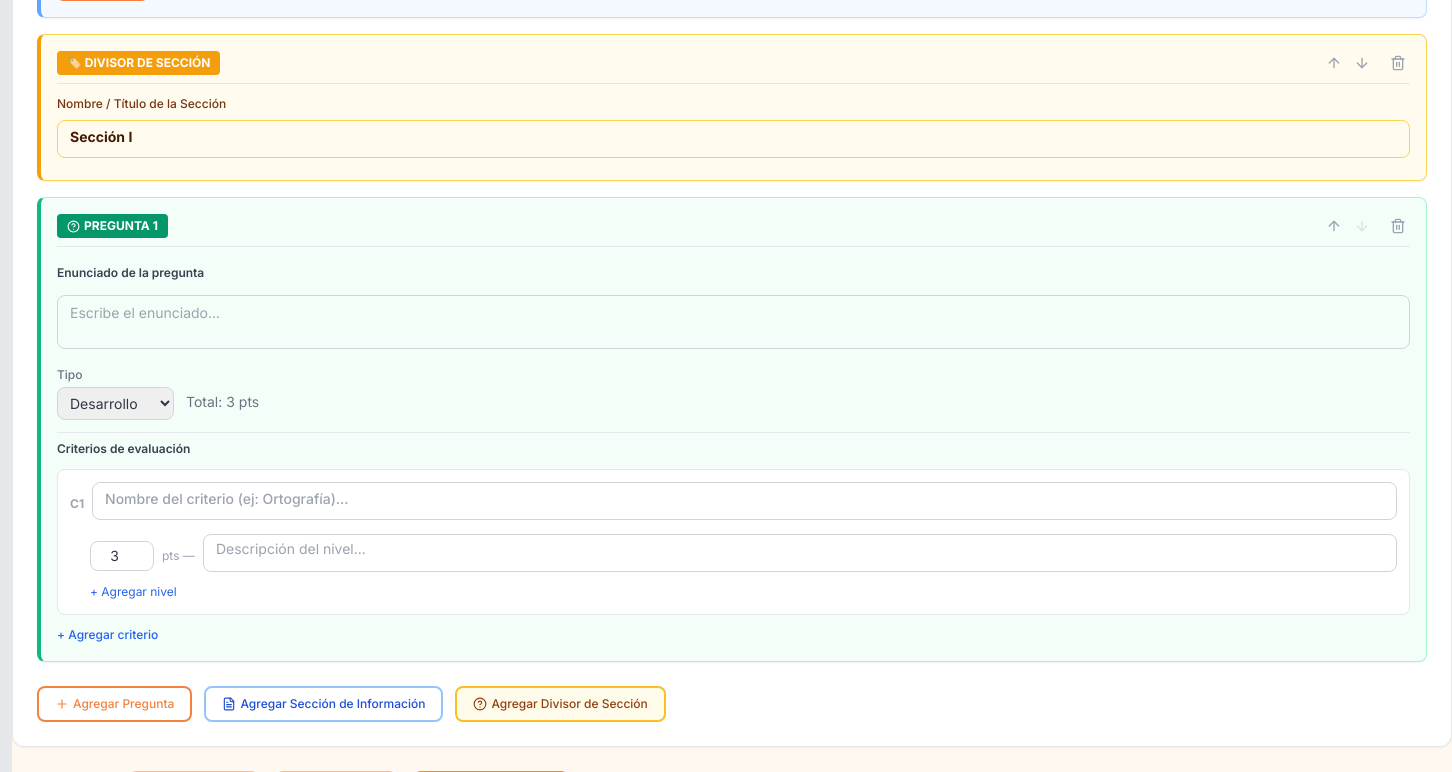
Test case: NuevaEvaluacionPage (Tiza) › cambia el tipo de pregunta a multiple_choice
(page scrolled)
Select "Alternativas" in the dropdown named "Tipo de pregunta 1" at (116, 404), box [57,387,174,420]
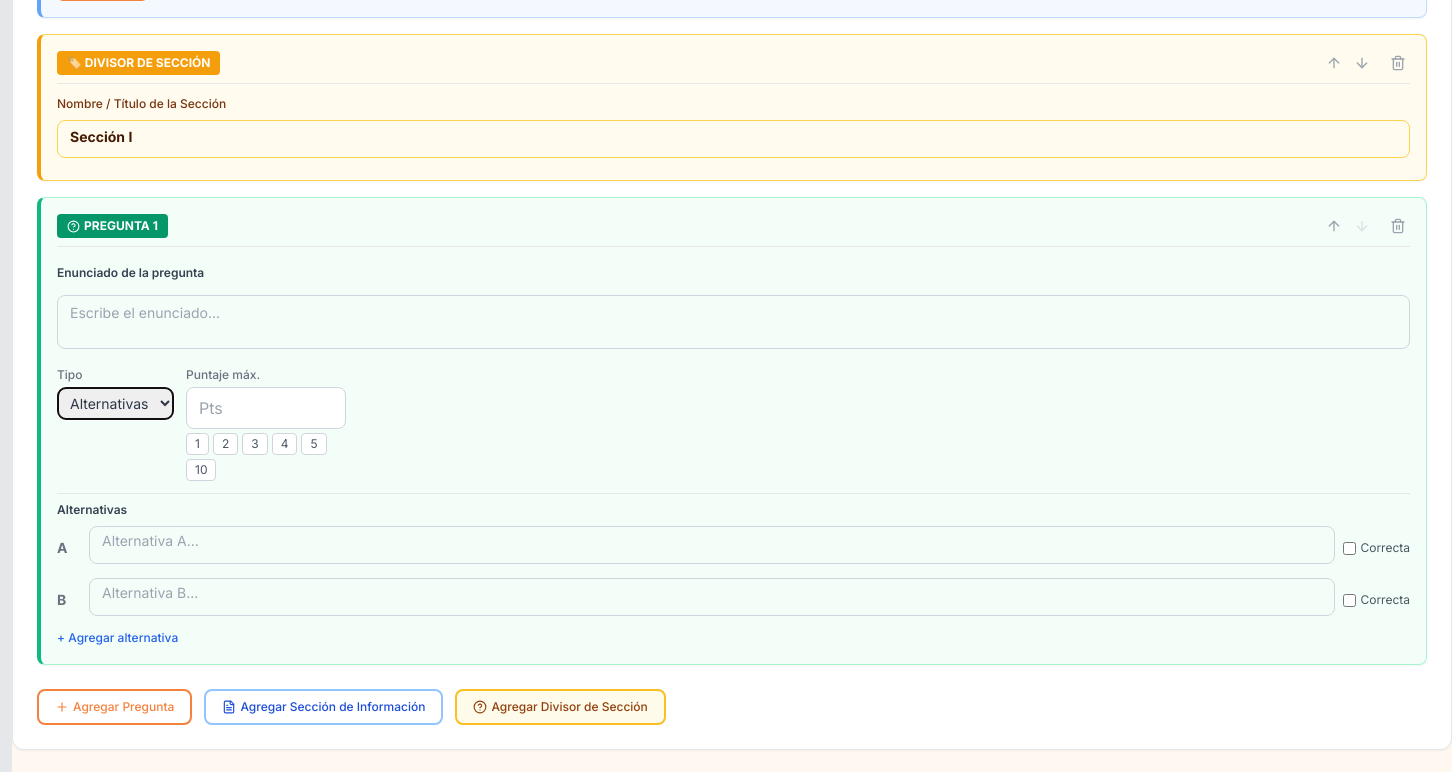
Expected: the text "Alternativas" is shown, [57,502,127,518]
Expected: the text "A" is shown, [57,539,68,556]
Expected: the text "B" is shown, [57,591,66,608]
